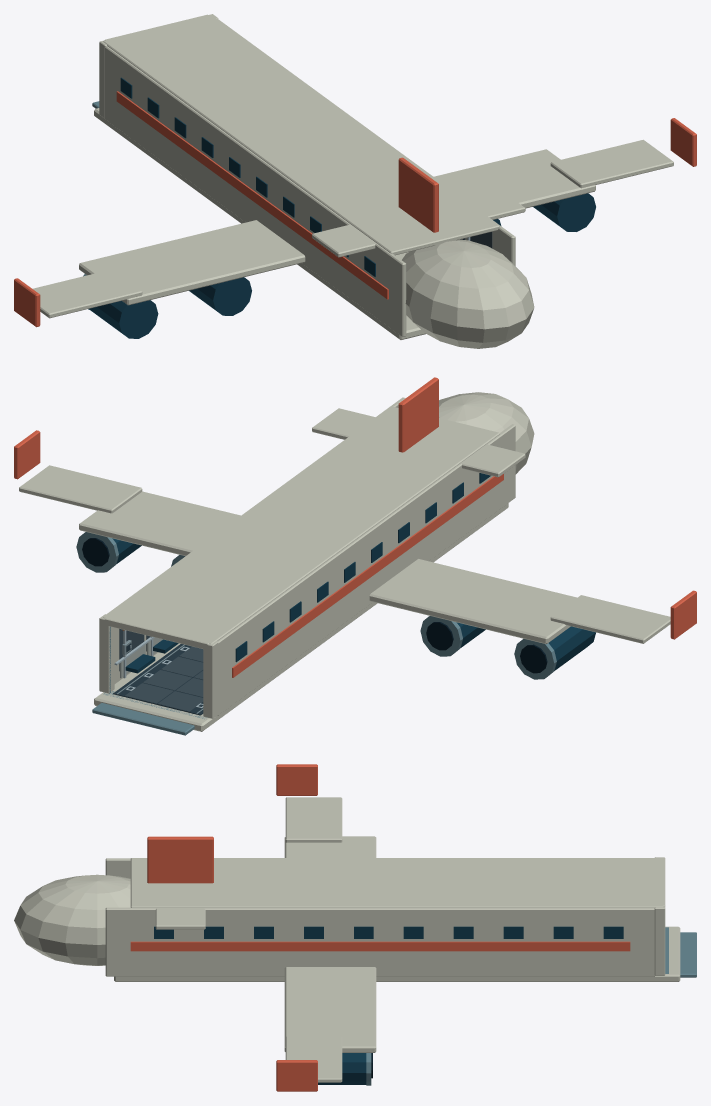
File: runway-aircraft.glb
3 views of the same model, one above another, from view 1: azimuth 30°, elevation 25°; view 2: azimuth 150°, elevation 25°; view 3: azimuth 270°, elevation 25° (orthographic). The views are drawn at different scales.
Visible parts, largest first — view 1: runway-aircraft; view 2: runway-aircraft; view 3: runway-aircraft.
Boxes of the visible parts, box(x1,y1,x2,y2) form: runway-aircraft: box(14, 14, 696, 348); runway-aircraft: box(14, 377, 696, 735); runway-aircraft: box(14, 764, 696, 1091).
Size of the model in its own units: 42.3 by 9.78 by 41.
